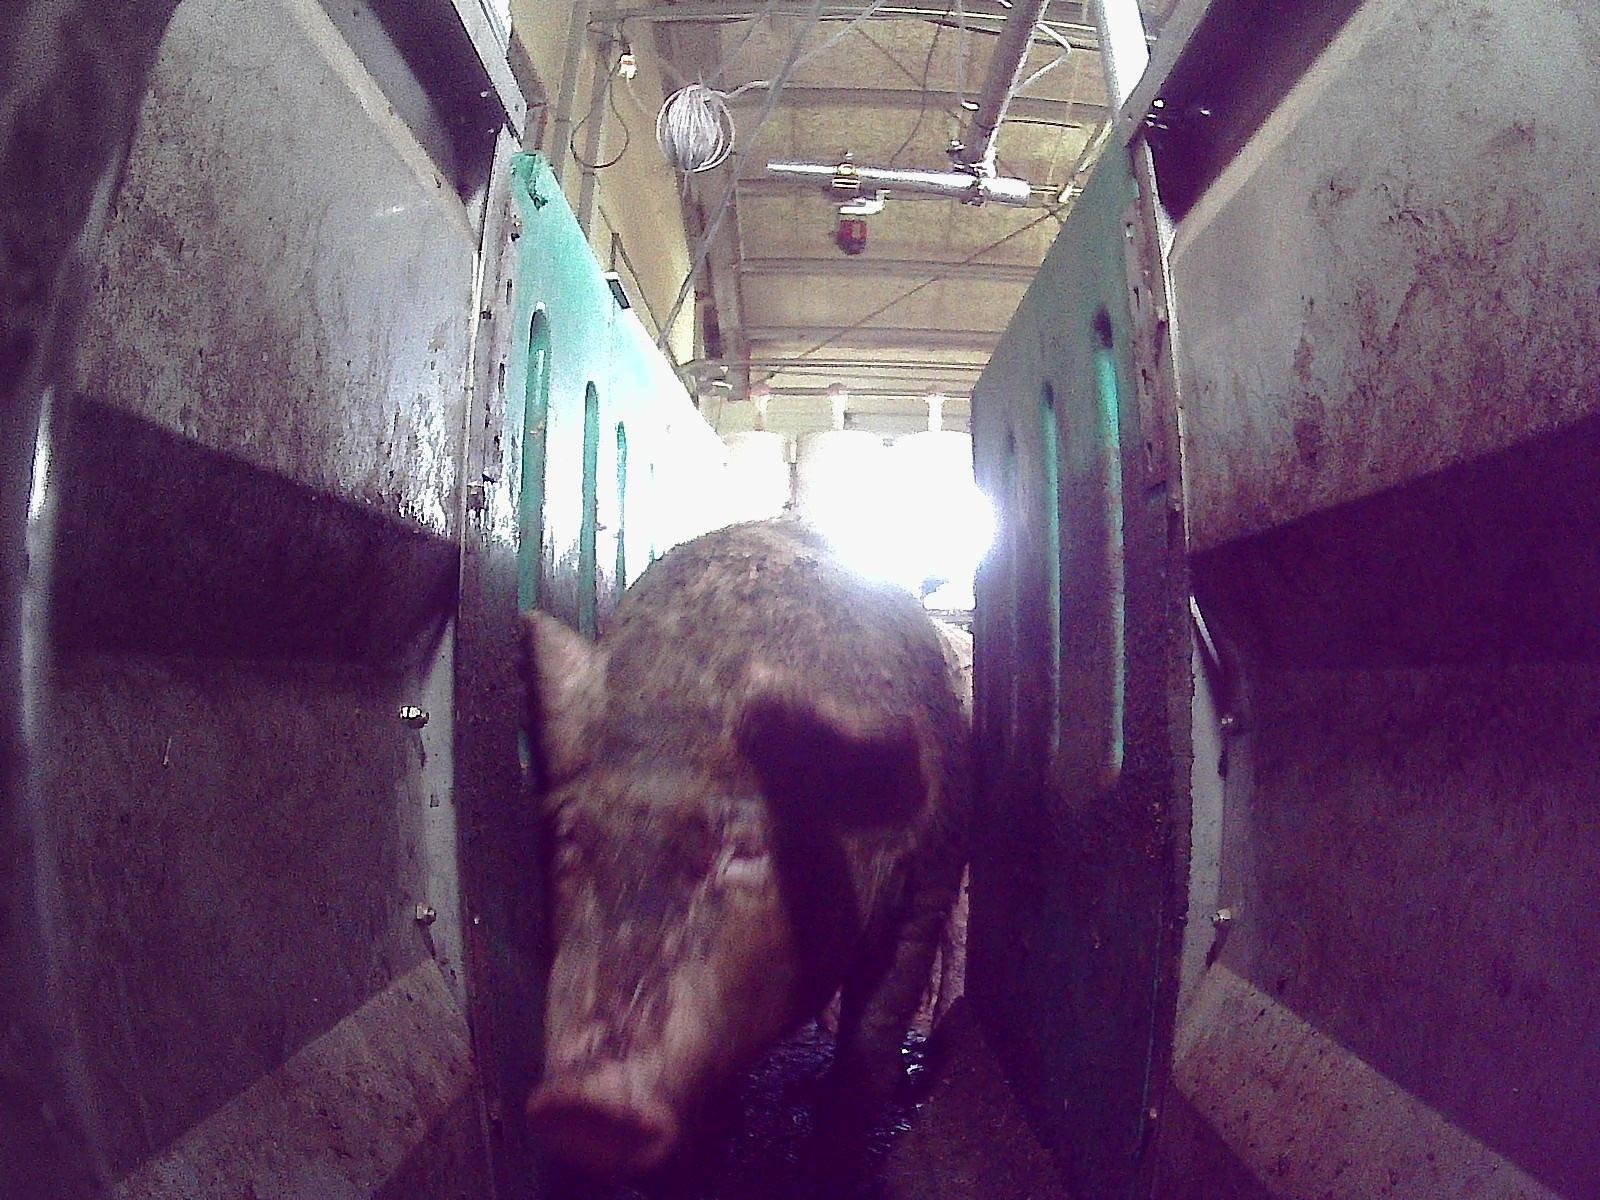Face: (525, 656, 859, 1167)
